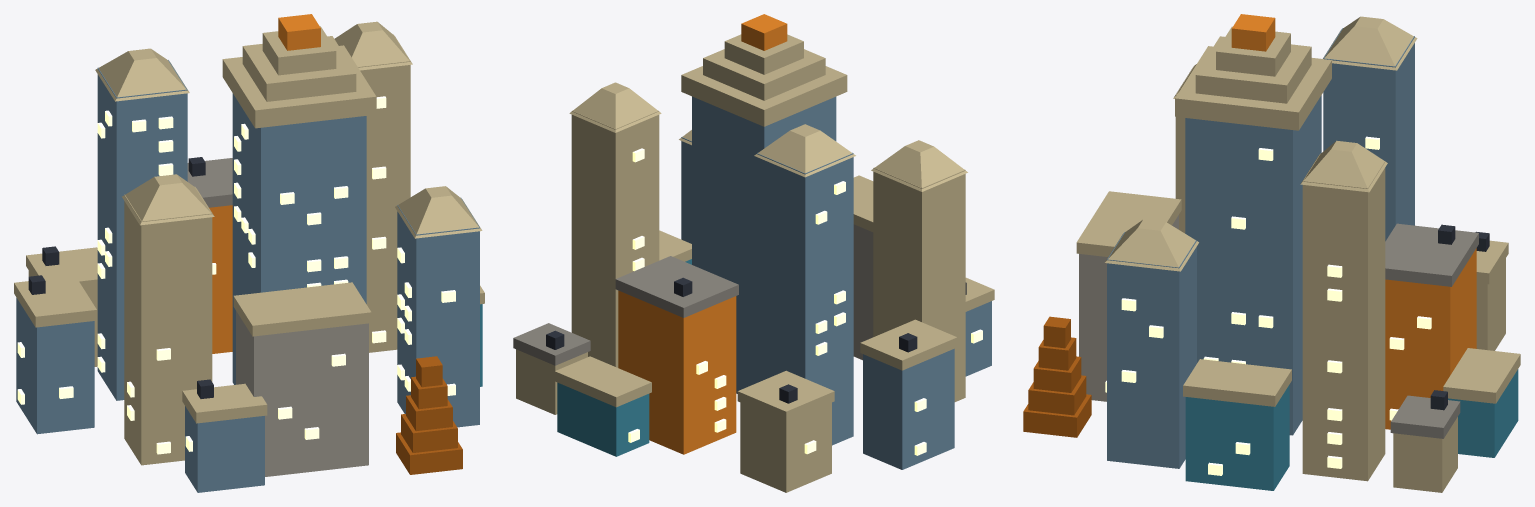
The model's file is overworld-settlement-south-asian-city.glb.
The picture shows the model from 3 angles, left to right: view 1: azimuth 30°, elevation 25°; view 2: azimuth 150°, elevation 25°; view 3: azimuth 270°, elevation 25°; orthographic projection. The views are drawn at different scales.
Visible parts, largest first — view 1: settlement; view 2: settlement; view 3: settlement.
Boxes of the visible parts, box(x1,y1,x2,y2) form: settlement: box(14, 14, 484, 492); settlement: box(513, 14, 994, 492); settlement: box(1023, 14, 1520, 492).
Size of the model in its own units: 0.4775 by 0.4174 by 0.4907.
